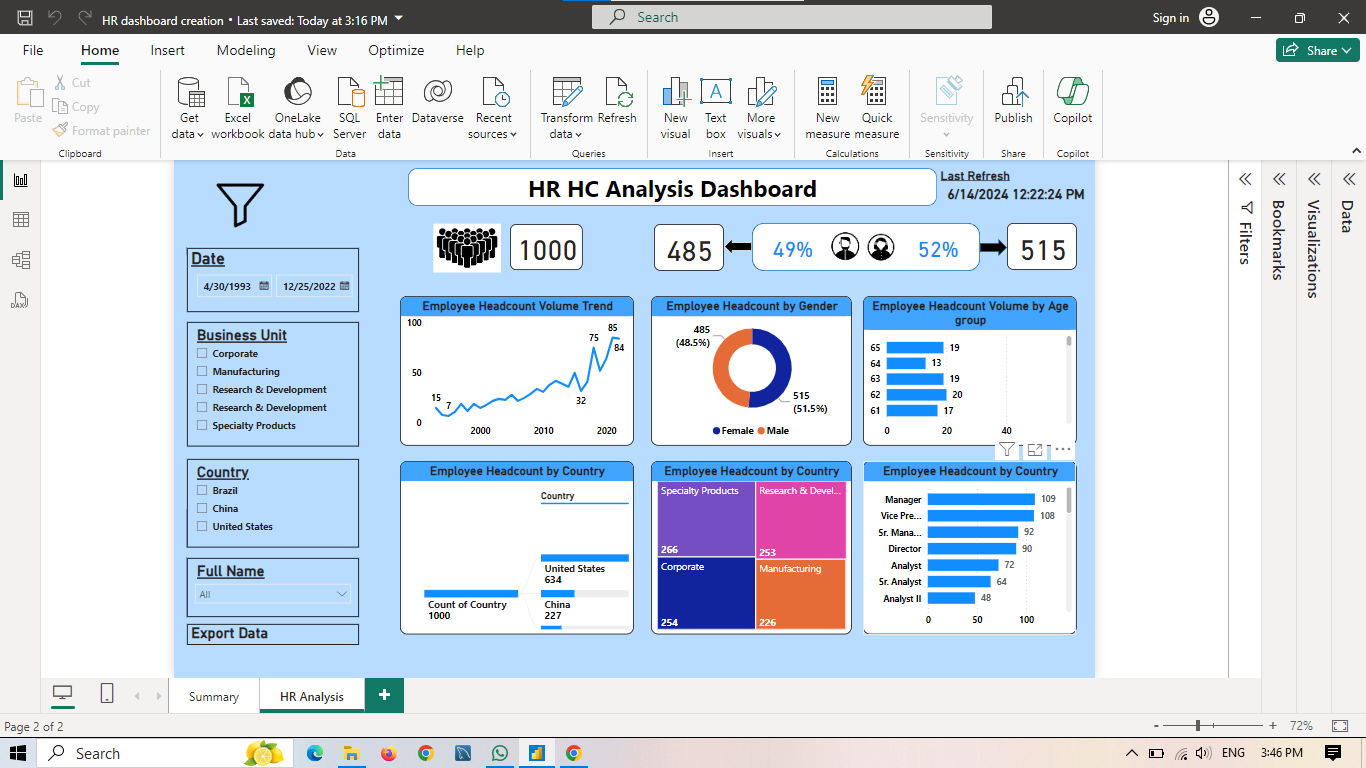

The page's visual inventory and layout, read from the dashboard file:
{"tool":"powerbi","page":{"name":"HR Analysis","canvas":[1280,720],"ordinal":1},"visuals":[{"type":"card","fields":{"Values":["CountNonNull(Employee Data.Gender)"]},"box":[467,89,101.5,63.9],"z":0},{"type":"image","box":[347.5,83.4,119.5,77.8],"z":1000},{"type":"lineChart","title":"Employee Headcount Volume Trend","fields":{"Category":["Employee Data.Hire Date.Variation.Date Hierarchy.Year"],"Y":["CountNonNull(Employee Data.Employee ID)"]},"box":[314.1,189,325.3,208.5],"z":2000},{"type":"donutChart","title":"Employee Headcount by Gender","fields":{"Category":["Employee Data.Gender"],"Y":["CountNonNull(Employee Data.Employee ID)"]},"box":[663,189,279.4,208.5],"z":3000},{"type":"clusteredBarChart","title":"Employee Headcount Volume by Age group","fields":{"Category":["Employee Data.Age"],"Y":["CountNonNull(Employee Data.Employee ID)"]},"box":[957.7,189,297.5,208.5],"z":4000},{"type":"treemap","title":"Employee Headcount by Country","fields":{"Group":["Employee Data.Business Unit"],"Values":["CountNonNull(Employee Data.Employee ID)"]},"box":[663.1,418.7,278.6,241],"z":5000},{"type":"decompositionTreeVisual","title":"Employee Headcount by Country","fields":{"Analyze":["CountNonNull(Employee Data.Country)"],"ExplainBy":["Employee Data.Country"]},"box":[314.4,418.7,324.7,241],"z":6000},{"type":"clusteredBarChart","title":"Employee Headcount by Country","fields":{"Category":["Employee Data.Job Title"],"Y":["CountNonNull(Employee Data.Employee ID)"]},"box":[957,418.7,297.4,241],"z":7000},{"type":"shape","box":[803.4,87.6,316.9,66.7],"z":8000},{"type":"image","box":[878.5,87.6,157.1,65.3],"z":9000},{"type":"card","fields":{"Values":["Employee Data.Total_Female_Count"]},"box":[1157.8,87.6,97.3,65.3],"z":10000},{"type":"card","fields":{"Values":["Employee Data.Male%"]},"box":[813.1,89,91.7,63.9],"z":11000},{"type":"card","fields":{"Values":["Employee Data.Female%"]},"box":[1014.7,89,91.7,63.9],"z":12000},{"type":"shape","box":[325.3,11.1,735.3,52.8],"z":13000},{"type":"card","fields":{"Values":["Employee Data.total_Male_Count"]},"box":[667.2,89,97.3,65.3],"z":14000},{"type":"shape","box":[764.5,108.4,38.9,23.6],"z":15000},{"type":"shape","box":[1120.3,109.8,37.5,23.6],"z":16000},{"type":"slicer","fields":{"Values":["Employee Data.Business Unit"]},"box":[18.6,224.5,238.8,173.1],"z":17000},{"type":"slicer","fields":{"Values":["Employee Data.Country"]},"box":[18.6,416.2,238.8,123],"z":18000},{"type":"slicer","fields":{"Values":["Employee Data.Full Name"]},"box":[18.6,553.5,238.8,81.5],"z":19000},{"type":"slicer","title":"Date","fields":{"Values":["Employee Data.Hire Date"]},"box":[18.6,123,238.8,88.7],"z":20000},{"type":"card","title":"Last Refresh","fields":{"Values":["Min(Query1.Last Refresh)"]},"box":[1060.5,11.1,219.6,54.2],"z":21000},{"type":"image","box":[54.3,22.9,75.8,82.9],"z":22000},{"type":"tableEx","title":"Export Data","fields":{"Values":["Employee Data.Full Name","Employee Data.Gender"]},"box":[18.6,645,238.8,28.6],"z":23000}]}

Visuals, with their boxes on the page's 1280x720 design canvas (x1, y1, x2, y2). These are canvas units, not pixel positions in the 1366x768 screenshot, which may show the page scaled, cropped or inside an application window:
card - CountNonNull(Employee Data.Gender): 467, 89, 568, 153
image: 348, 83, 467, 161
"Employee Headcount Volume Trend" lineChart: 314, 189, 639, 398
"Employee Headcount by Gender" donutChart: 663, 189, 942, 398
"Employee Headcount Volume by Age group" clusteredBarChart: 958, 189, 1255, 398
"Employee Headcount by Country" treemap: 663, 419, 942, 660
"Employee Headcount by Country" decompositionTreeVisual: 314, 419, 639, 660
"Employee Headcount by Country" clusteredBarChart: 957, 419, 1254, 660
shape: 803, 88, 1120, 154
image: 878, 88, 1036, 153
card - Employee Data.Total_Female_Count: 1158, 88, 1255, 153
card - Employee Data.Male%: 813, 89, 905, 153
card - Employee Data.Female%: 1015, 89, 1106, 153
shape: 325, 11, 1061, 64
card - Employee Data.total_Male_Count: 667, 89, 764, 154
shape: 764, 108, 803, 132
shape: 1120, 110, 1158, 133
slicer - Employee Data.Business Unit: 19, 224, 257, 398
slicer - Employee Data.Country: 19, 416, 257, 539
slicer - Employee Data.Full Name: 19, 554, 257, 635
"Date" slicer: 19, 123, 257, 212
"Last Refresh" card: 1060, 11, 1280, 65
image: 54, 23, 130, 106
"Export Data" tableEx: 19, 645, 257, 674
